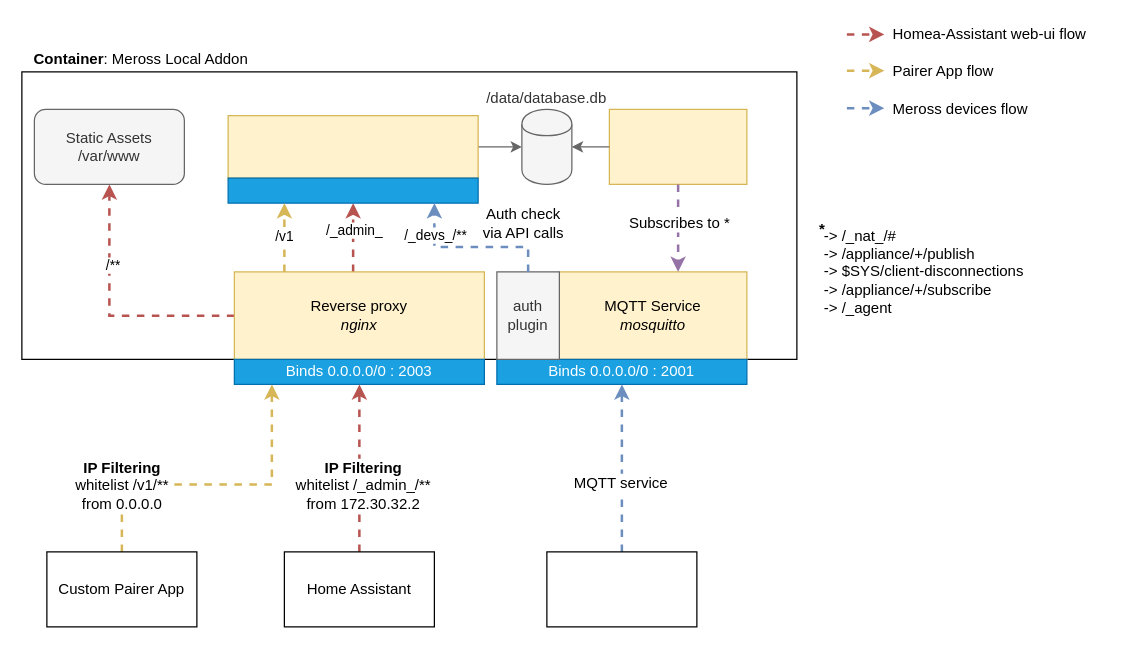
Image size: 1125x649. Some labels were removed from this diagram. The shapes that lost their labels are listed below. From the top down, each one's box as (x1, y1, x2, y2) in pixels, then its label:
(227, 114, 478, 178): Local HTTP API flask
(608, 108, 747, 184): Broker Service python
(227, 177, 478, 203): Binds 127.0.0.1:2002
(546, 551, 697, 627): Meross hardware devices
